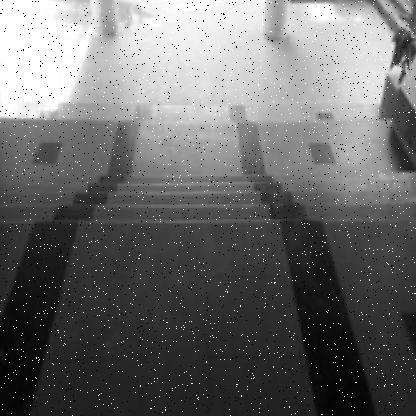stair_down: (60, 150, 358, 253)
